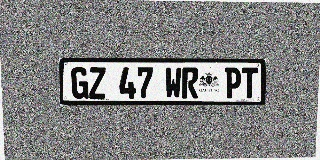4: (119, 67, 136, 99)
7: (136, 67, 153, 99)
G: (71, 67, 89, 99)
P: (225, 67, 241, 98)
R: (182, 67, 198, 98)
T: (241, 67, 258, 98)
W: (165, 67, 182, 99)
Z: (89, 67, 106, 99)
